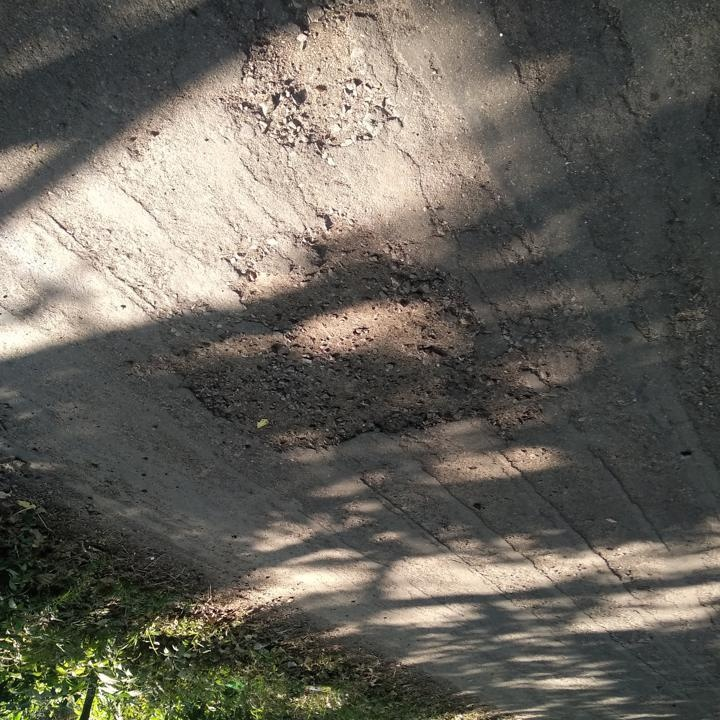pothole: (166, 216, 537, 451), (231, 0, 397, 151)
